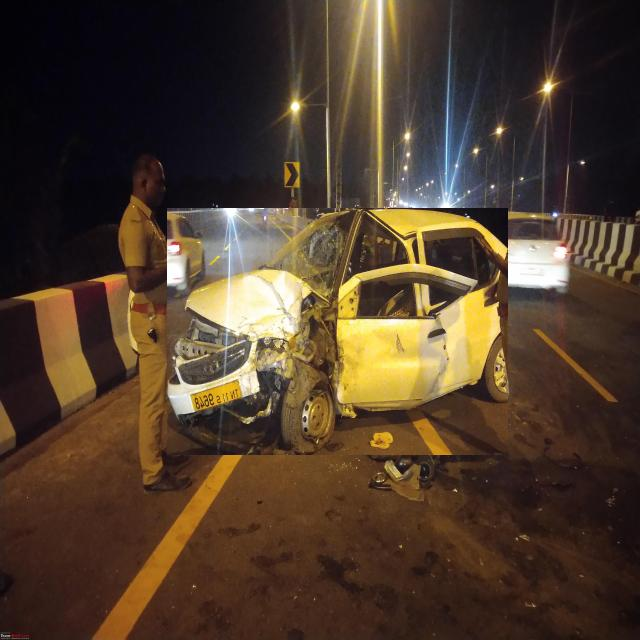accident: (168, 208, 508, 455)
car: (471, 212, 570, 295)
